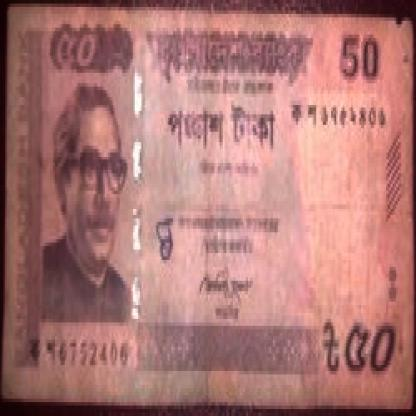Fifty taka: (333, 312, 409, 388), (44, 17, 106, 90)
